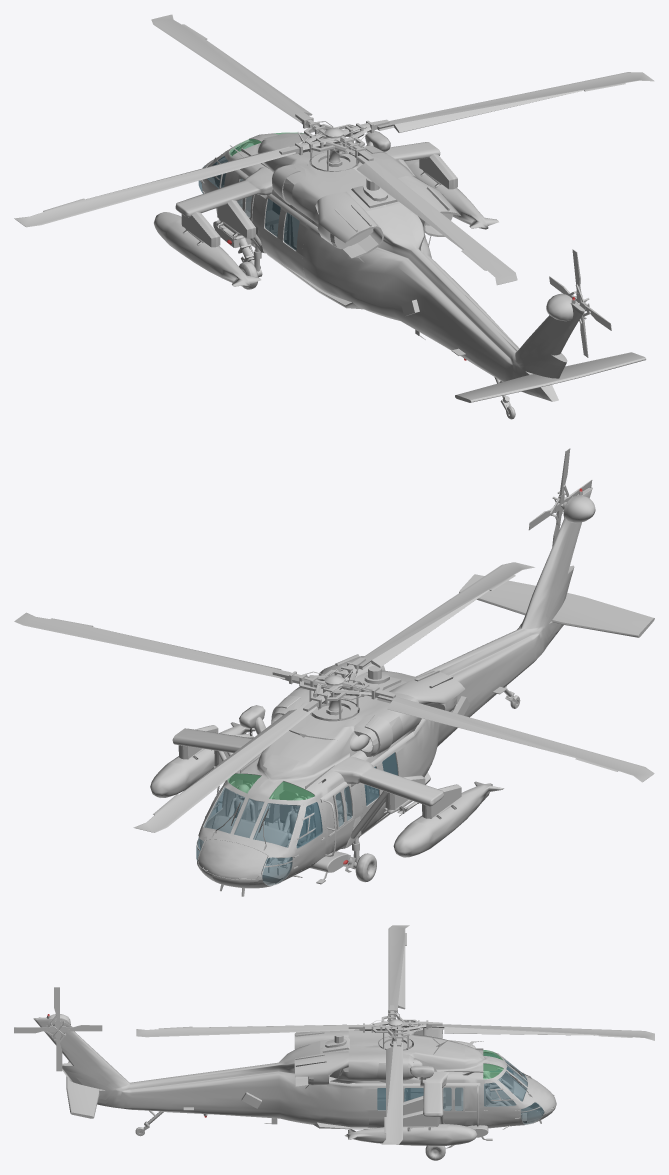
File: uh60helico.glb
3 views of the same model, one above another, from view 1: azimuth 30°, elevation 25°; view 2: azimuth 150°, elevation 25°; view 3: azimuth 270°, elevation 25° (orthographic). The views are drawn at different scales.
Visible parts, largest first — view 1: 3DSMeshMatrix, 3DSMeshMatrix.007, 3DSMeshMatrix.005, 3DSMeshMatrix.006, 3DSMeshMatrix.008; view 2: 3DSMeshMatrix, 3DSMeshMatrix.007, 3DSMeshMatrix.006, 3DSMeshMatrix.002, 3DSMeshMatrix.005, 3DSMeshMatrix.001, 3DSMeshMatrix.008; view 3: 3DSMeshMatrix, 3DSMeshMatrix.007, 3DSMeshMatrix.003, 3DSMeshMatrix.008, 3DSMeshMatrix.006, 3DSMeshMatrix.004, 3DSMeshMatrix.001.
Boxes of the visible parts, x1,y1,x2,y2 form: 3DSMeshMatrix: (154,130,584,414); 3DSMeshMatrix.007: (14,14,654,285); 3DSMeshMatrix.005: (260,196,308,280); 3DSMeshMatrix.006: (455,352,646,402); 3DSMeshMatrix.008: (549,249,611,357); 3DSMeshMatrix: (150,487,595,896); 3DSMeshMatrix.007: (14,562,654,832); 3DSMeshMatrix.006: (459,574,654,637); 3DSMeshMatrix.002: (290,797,325,875); 3DSMeshMatrix.005: (360,746,404,833); 3DSMeshMatrix.001: (227,784,310,866); 3DSMeshMatrix.008: (528,448,592,546); 3DSMeshMatrix: (33,1014,556,1148); 3DSMeshMatrix.007: (136,925,654,1144); 3DSMeshMatrix.003: (480,1080,519,1125); 3DSMeshMatrix.008: (14,987,102,1071); 3DSMeshMatrix.006: (66,1061,99,1118); 3DSMeshMatrix.004: (369,1086,423,1127); 3DSMeshMatrix.001: (483,1071,513,1106).
Size of the model in its own units: 15.93 by 5.23 by 19.69.
